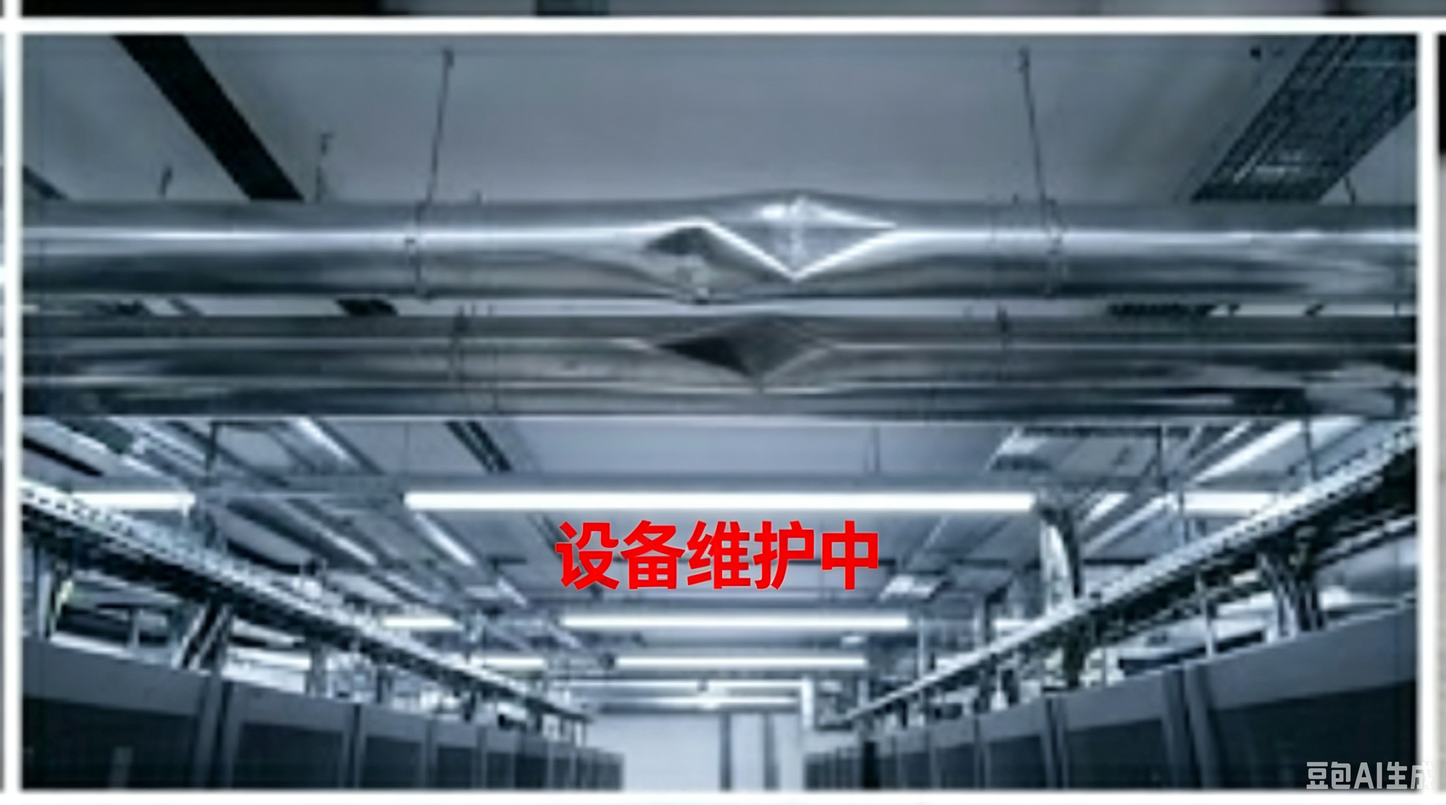Leakage: (636, 313, 912, 400), (728, 190, 918, 288), (630, 230, 713, 299)
